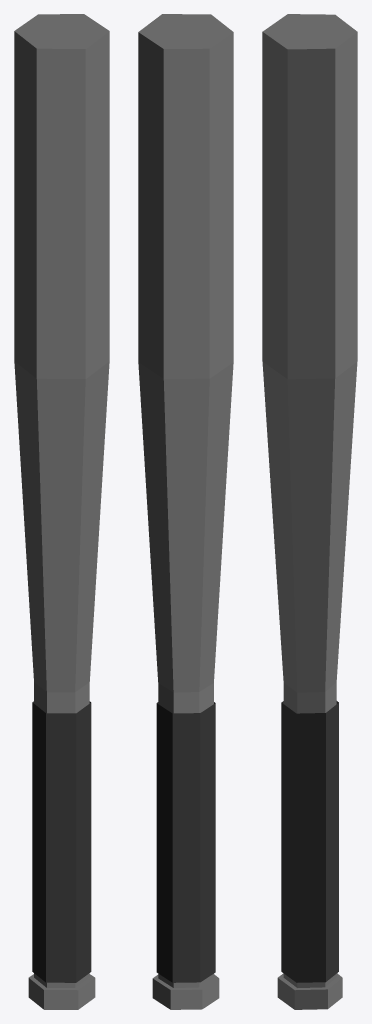
File: Item_Bat01.FBX
3 views of the same model, side by side, from view 1: azimuth 30°, elevation 25°; view 2: azimuth 210°, elevation 25°; view 3: azimuth 270°, elevation 25° (orthographic).
Parts seen in each view (by area): view 1: Item_Bat01; view 2: Item_Bat01; view 3: Item_Bat01.
Part boxes in pixels (<box>): Item_Bat01: <box>14,14,109,1009</box>; Item_Bat01: <box>138,14,233,1009</box>; Item_Bat01: <box>262,14,357,1009</box>.
Bounding box in the file's own units: 6.17 × 78.29 × 6.98.
